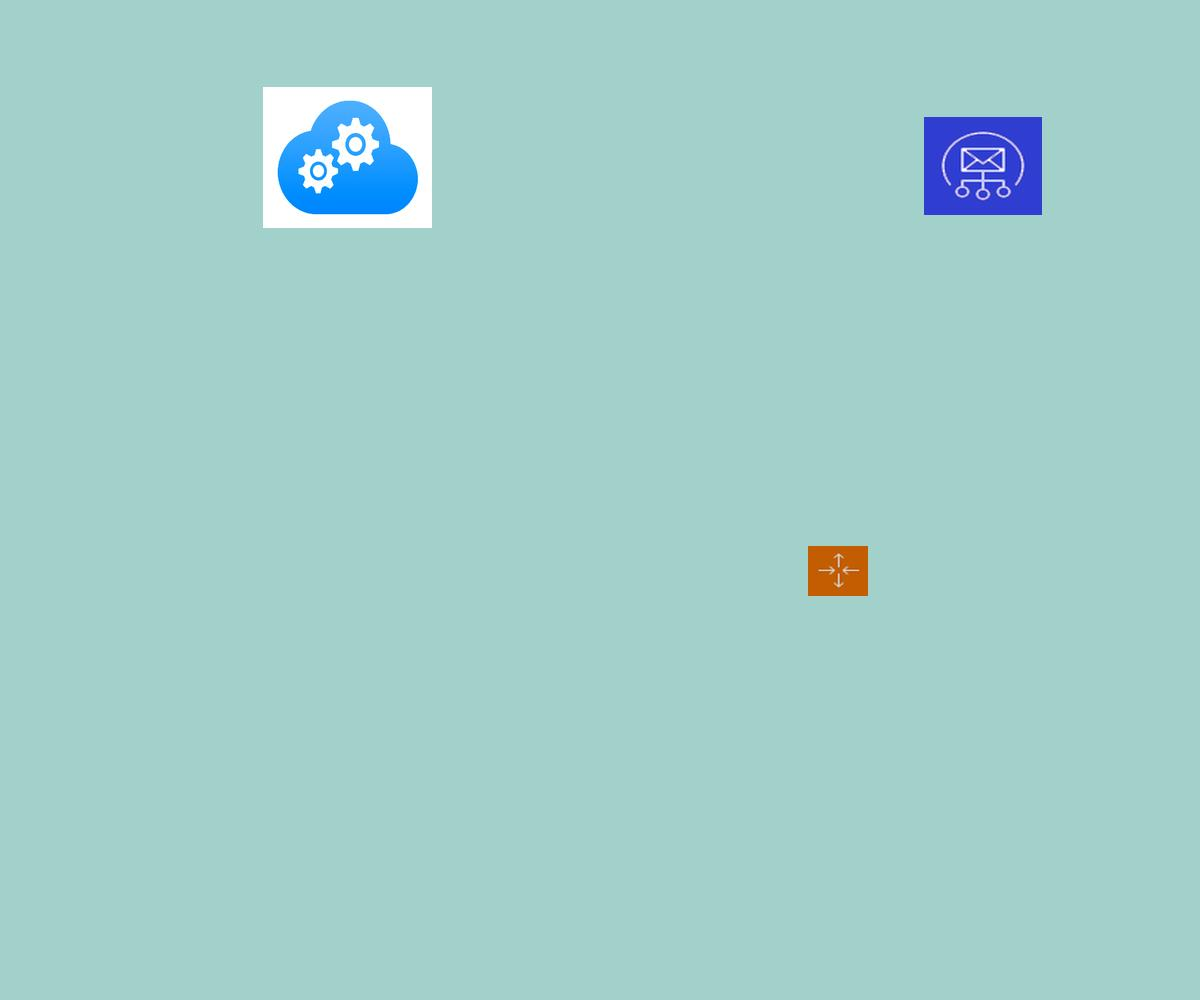AWS-Scaling-group: (808, 546, 868, 596)
AWS-Simple-Email-Service: (924, 117, 1042, 215)
Azure_cloud_services: (263, 87, 432, 228)
